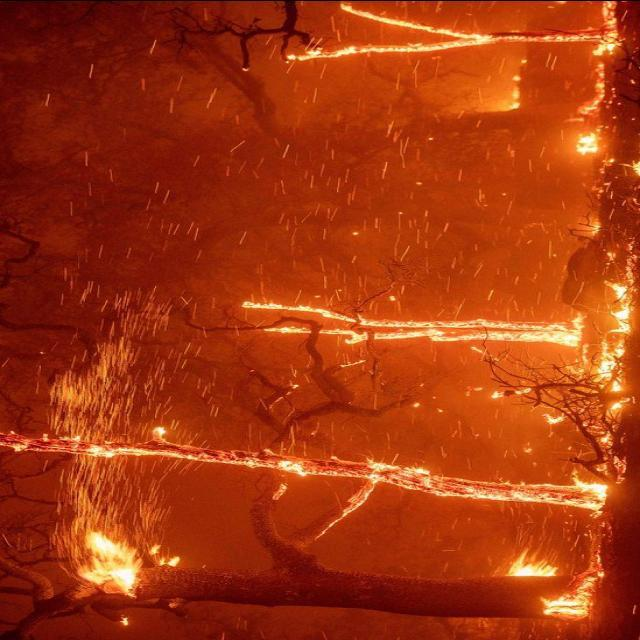Fire: (4, 404, 602, 524), (266, 5, 634, 80), (223, 294, 597, 362), (46, 508, 172, 608), (501, 550, 603, 626)
